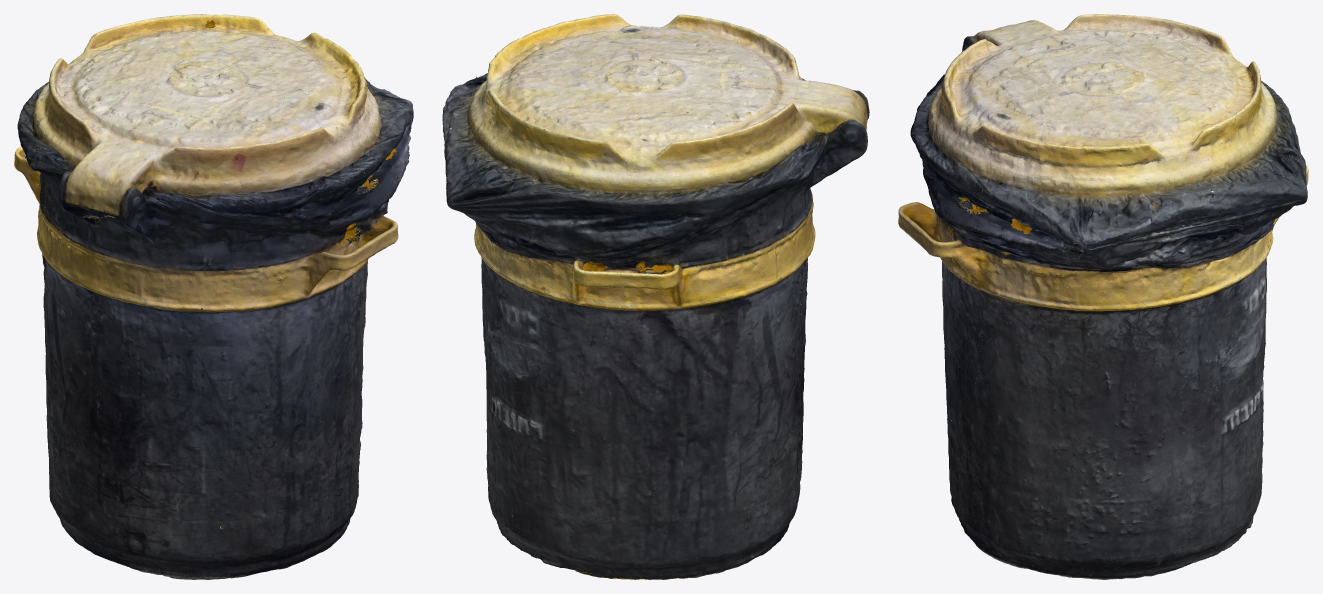
File: kokedama-briki-chiton.glb
3 views of the same model, side by side, from view 1: azimuth 30°, elevation 25°; view 2: azimuth 150°, elevation 25°; view 3: azimuth 270°, elevation 25° (orthographic).
Visible parts, largest first — view 1: material0000, material0002, material0001, material0004, material0003, material0011, material0007, material0009, material0005, material0020, material0014, material0010 (+46 smaller); view 2: material0000, material0001, material0003, material0002, material0004, material0009, material0011, material0007, material0013, material0012, material0022, material0023 (+48 smaller); view 3: material0000, material0001, material0003, material0004, material0002, material0006, material0009, material0008, material0016, material0012, material0017, material0023 (+51 smaller).
Part boxes in pixels (x1,y1,x2,y2): material0000: [14, 14, 412, 579]; material0002: [17, 31, 409, 579]; material0001: [29, 18, 412, 579]; material0004: [20, 25, 409, 578]; material0003: [18, 22, 413, 579]; material0011: [19, 15, 408, 579]; material0007: [24, 33, 411, 579]; material0009: [17, 25, 412, 559]; material0005: [20, 29, 408, 579]; material0020: [25, 23, 412, 546]; material0014: [29, 15, 402, 579]; material0010: [16, 14, 407, 579]; material0000: [442, 14, 869, 579]; material0001: [443, 20, 808, 579]; material0003: [443, 24, 867, 578]; material0002: [456, 23, 866, 579]; material0004: [443, 18, 864, 578]; material0009: [446, 35, 854, 535]; material0011: [443, 15, 858, 577]; material0007: [447, 21, 832, 578]; material0013: [449, 21, 855, 535]; material0012: [442, 15, 867, 570]; material0022: [444, 16, 869, 569]; material0023: [444, 14, 866, 561]; material0000: [898, 16, 1307, 579]; material0001: [905, 37, 1298, 575]; material0003: [916, 19, 1308, 579]; material0004: [901, 21, 1308, 579]; material0002: [912, 14, 1308, 579]; material0006: [916, 15, 1289, 578]; material0009: [928, 29, 1307, 578]; material0008: [918, 35, 1306, 578]; material0016: [916, 14, 1296, 579]; material0012: [901, 14, 1293, 578]; material0017: [901, 20, 1285, 561]; material0023: [922, 21, 1299, 545].
Bounding box in the file's own units: 2.03 × 2.27 × 1.89.
Materials: 72 (72 with a texture image).
